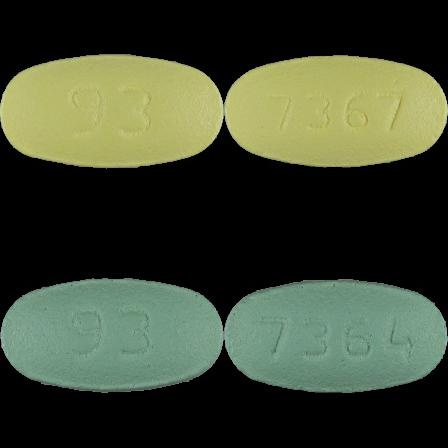54868-6110: (0, 0, 224, 224)
